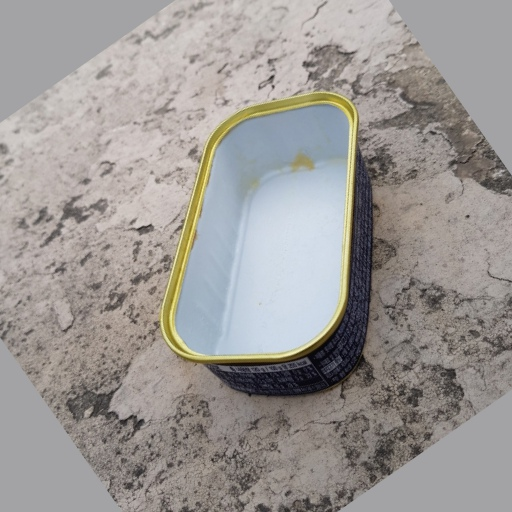Metal_2: (154, 90, 378, 392)
